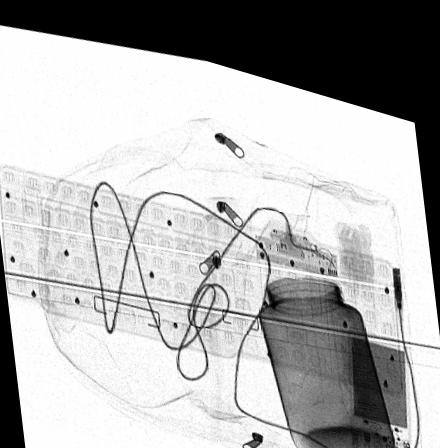Powerbank: (347, 308, 413, 437)
